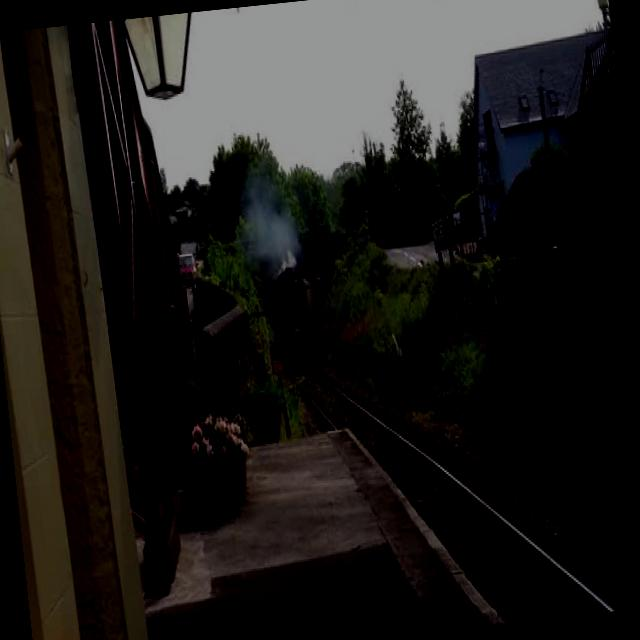Vehicle: (176, 251, 198, 284)
